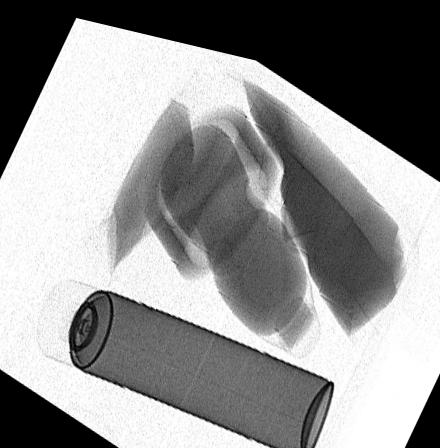Sprayer: (34, 275, 334, 446)
